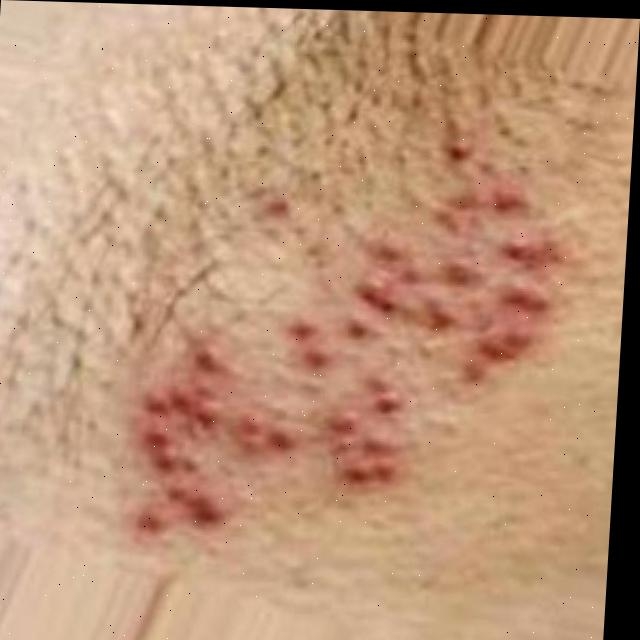Shingles: (123, 168, 563, 538)
